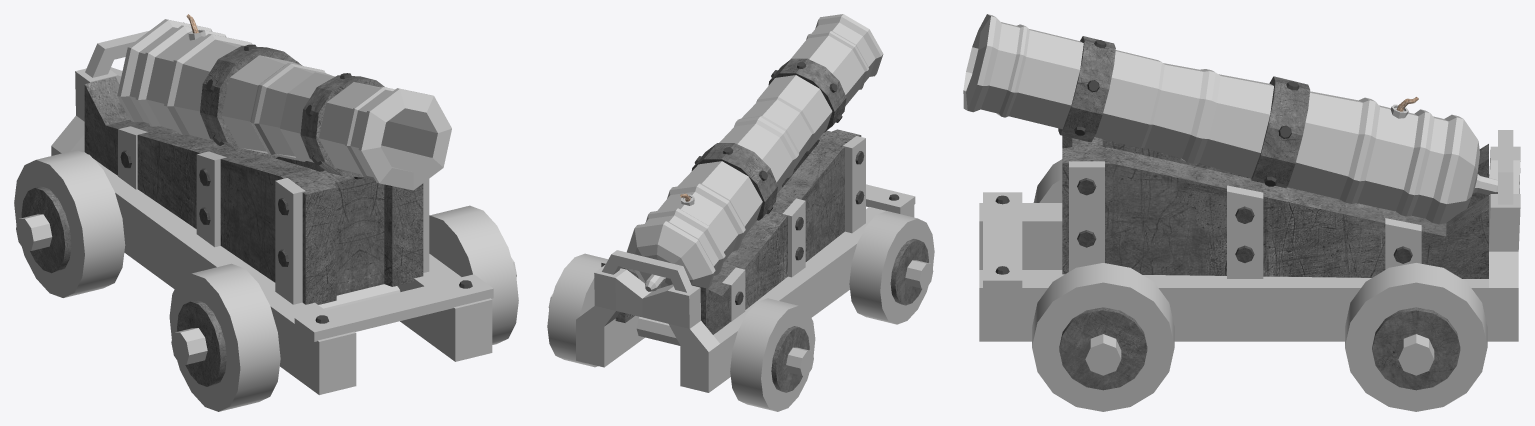
Rendered from CanonLvl4.fbx.
3 renders of one model, left to right at view 1: azimuth 30°, elevation 25°; view 2: azimuth 150°, elevation 25°; view 3: azimuth 270°, elevation 25°, orthographic. The views are drawn at different scales.
Visible parts, largest first — view 1: Cube.037, Cylinder.047, Cube.033, Circle.020, Circle.023, Cube.030, Cube.036, Cube.031, Circle.032, Circle.033, Cube.034, Cylinder.032 (+2 smaller); view 2: Cylinder.047, Cube.033, Cube.037, Circle.023, Circle.020, Cube.030, Cube.031, Cube.034, Circle.033, Circle.032, Cylinder.033, Cube.036 (+2 smaller); view 3: Cylinder.047, Cube.037, Cube.033, Circle.020, Circle.023, Cube.030, Circle.032, Circle.033, Cube.036, Cube.031, Cube.034, Circle.024 (+2 smaller).
Boxes of the visible parts, box(x1,y1,x2,y2) form: Cube.037: box(84, 76, 423, 304); Cylinder.047: box(117, 19, 451, 190); Cube.033: box(51, 22, 492, 394); Circle.020: box(169, 205, 518, 411); Circle.023: box(14, 150, 125, 297); Cube.030: box(118, 126, 429, 304); Cube.036: box(294, 274, 493, 341); Cube.031: box(200, 46, 301, 158); Circle.032: box(177, 300, 226, 386); Circle.033: box(21, 186, 71, 273); Cube.034: box(300, 75, 384, 177); Cylinder.032: box(171, 258, 516, 364); Cylinder.047: box(627, 14, 883, 291); Cube.033: box(576, 205, 914, 392); Cube.037: box(601, 129, 861, 334); Circle.023: box(547, 253, 815, 411); Circle.020: box(849, 211, 934, 324); Cube.030: box(722, 136, 865, 321); Cube.031: box(691, 143, 777, 220); Cube.034: box(768, 58, 846, 132); Circle.033: box(771, 326, 809, 392); Circle.032: box(890, 239, 928, 305); Cylinder.033: box(548, 294, 813, 375); Cube.036: box(866, 184, 915, 214); Cylinder.047: box(963, 14, 1497, 224); Cube.037: box(1062, 135, 1488, 278); Cube.033: box(979, 130, 1520, 341); Circle.020: box(1032, 159, 1174, 411); Circle.023: box(1345, 263, 1487, 411); Cube.030: box(1069, 161, 1421, 278); Circle.032: box(1059, 307, 1147, 390); Circle.033: box(1372, 307, 1460, 390); Cube.036: box(983, 192, 1022, 290); Cube.031: box(1246, 76, 1310, 188); Cube.034: box(1058, 36, 1115, 142); Circle.024: box(1077, 178, 1412, 263).
Bounding box in the file's own units: 106 × 100 × 155.
